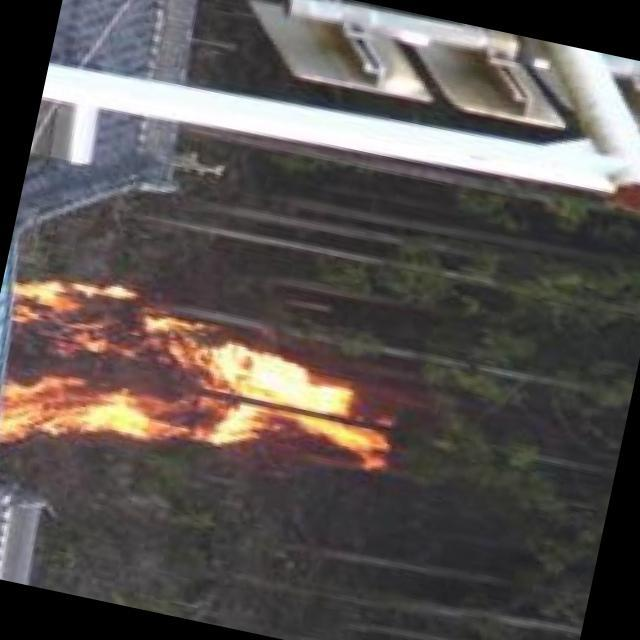Fire: (1, 268, 399, 509)
